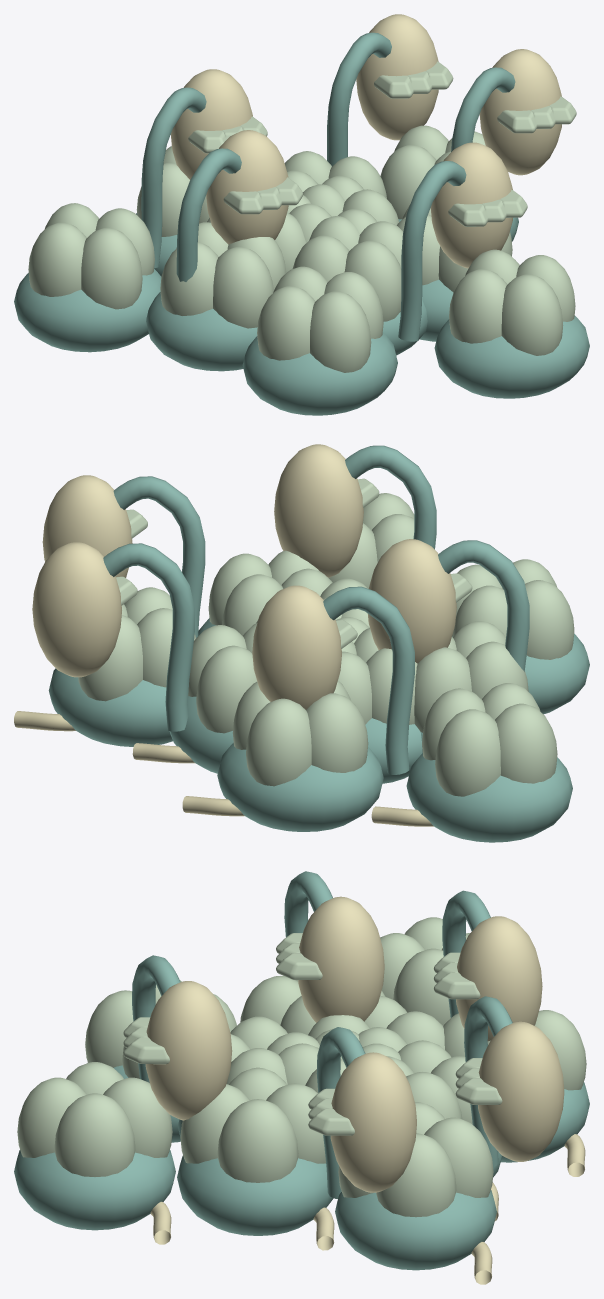
The model's file is bio_oxygen_reef_08_near.glb.
3 renders of one model, top to bottom at view 1: azimuth 30°, elevation 25°; view 2: azimuth 150°, elevation 25°; view 3: azimuth 270°, elevation 25°, orthographic. The views are drawn at different scales.
Parts seen in each view (by area): view 1: Lobed gas sac.036, Lobed gas sac.040, Lobed gas sac.028, Lobed gas sac.016, Photosynthetic cushion.007, Photosynthetic cushion.010, Photosynthetic cushion.009, Lobed gas sac.008, Pendant spore capsule.003, Pendant spore capsule, Pendant spore capsule.002, Pendant spore capsule.004 (+20 smaller); view 2: Lobed gas sac.036, Lobed gas sac.024, Pendant spore capsule.003, Pendant spore capsule.002, Pendant spore capsule.001, Photosynthetic cushion.009, Photosynthetic cushion.006, Pendant spore capsule.004, Lobed gas sac.028, Lobed gas sac.032, Lobed gas sac.016, Photosynthetic cushion.008 (+18 smaller); view 3: Lobed gas sac.040, Lobed gas sac.020, Pendant spore capsule, Pendant spore capsule.003, Pendant spore capsule.002, Photosynthetic cushion.010, Photosynthetic cushion.008, Lobed gas sac.032, Photosynthetic cushion.005, Pendant spore capsule.004, Pendant spore capsule.001, Lobed gas sac.036 (+22 smaller).
Boxes of the visible parts, left/top/right/bottom form: Lobed gas sac.036: left=28, top=203, right=154, bottom=309; Lobed gas sac.040: left=449, top=249, right=575, bottom=355; Lobed gas sac.028: left=257, top=266, right=383, bottom=372; Lobed gas sac.016: left=160, top=222, right=286, bottom=328; Photosynthetic cushion.007: left=242, top=332, right=397, bottom=415; Photosynthetic cushion.010: left=434, top=315, right=589, bottom=398; Photosynthetic cushion.009: left=14, top=269, right=161, bottom=352; Lobed gas sac.008: left=292, top=216, right=403, bottom=321; Pendant spore capsule.003: left=356, top=14, right=438, bottom=140; Pendant spore capsule: left=479, top=49, right=561, bottom=175; Pendant spore capsule.002: left=430, top=142, right=512, bottom=268; Pendant spore capsule.004: left=206, top=130, right=288, bottom=244; Lobed gas sac.036: left=422, top=683, right=557, bottom=796; Lobed gas sac.024: left=232, top=680, right=368, bottom=786; Pendant spore capsule.003: left=32, top=542, right=121, bottom=677; Pendant spore capsule.002: left=274, top=444, right=363, bottom=577; Pendant spore capsule.001: left=252, top=585, right=341, bottom=709; Photosynthetic cushion.009: left=406, top=753, right=572, bottom=842; Photosynthetic cushion.006: left=217, top=743, right=383, bottom=831; Pendant spore capsule.004: left=368, top=539, right=456, bottom=663; Lobed gas sac.028: left=452, top=559, right=574, bottom=659; Lobed gas sac.032: left=78, top=587, right=196, bottom=701; Lobed gas sac.016: left=414, top=621, right=528, bottom=732; Photosynthetic cushion.008: left=48, top=668, right=172, bottom=746; Lobed gas sac.040: left=17, top=1062, right=172, bottom=1176; Lobed gas sac.020: left=180, top=1067, right=325, bottom=1182; Pendant spore capsule: left=330, top=1052, right=416, bottom=1192; Pendant spore capsule.003: left=478, top=1021, right=564, bottom=1161; Pendant spore capsule.002: left=145, top=981, right=232, bottom=1120; Photosynthetic cushion.010: left=14, top=1150, right=175, bottom=1230; Photosynthetic cushion.008: left=335, top=1190, right=496, bottom=1270; Lobed gas sac.032: left=338, top=1102, right=493, bottom=1217; Photosynthetic cushion.005: left=177, top=1155, right=333, bottom=1235; Pendant spore capsule.004: left=298, top=896, right=384, bottom=1022; Pendant spore capsule.001: left=456, top=916, right=542, bottom=1041; Lobed gas sac.036: left=380, top=917, right=469, bottom=1025.
Size of the model in its own units: 1.92 by 0.7745 by 1.71.
